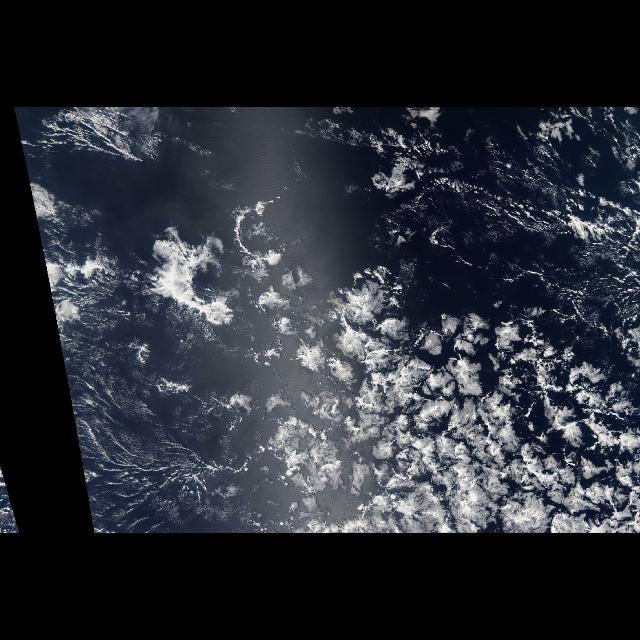Flower: (241, 240, 639, 532)
Sugar: (56, 322, 242, 532)
